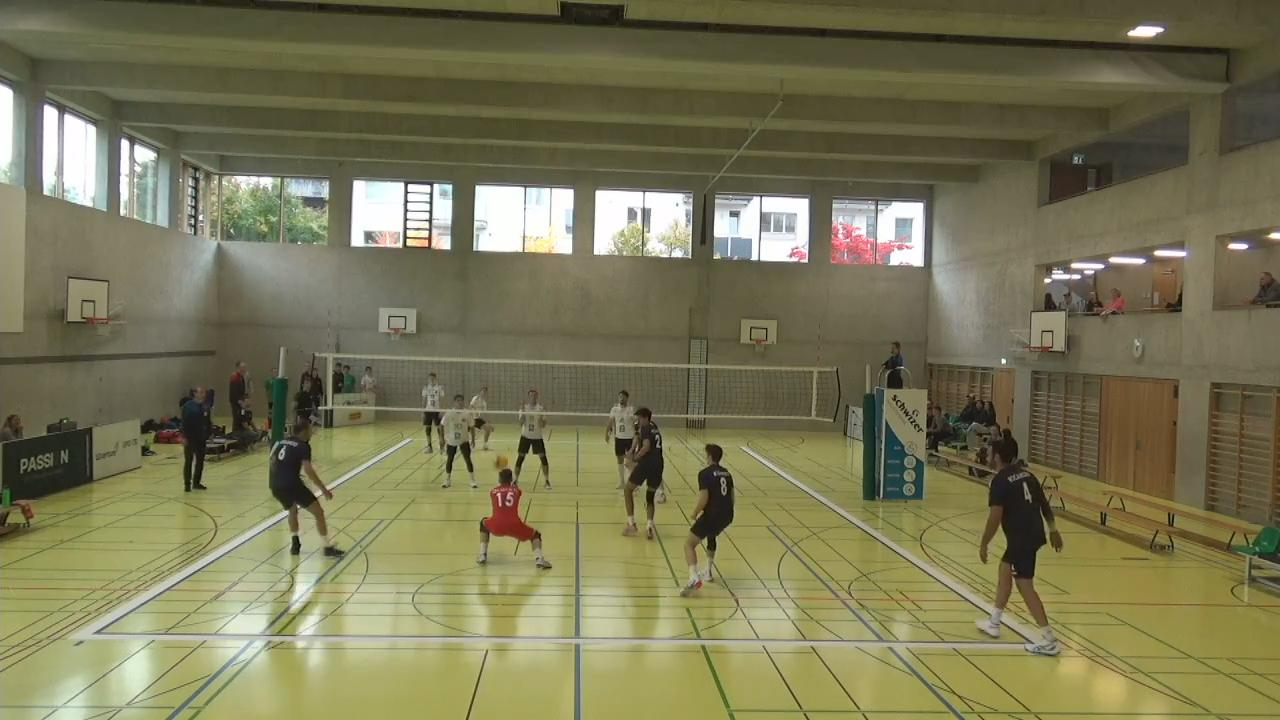Player: (976, 436, 1060, 655), (272, 416, 344, 559), (680, 443, 735, 592), (628, 406, 666, 538), (512, 390, 551, 488), (441, 391, 480, 489), (605, 391, 632, 485), (465, 388, 495, 461), (423, 371, 447, 460)
Receive: (473, 462, 556, 570)
ball: (491, 455, 509, 472)
